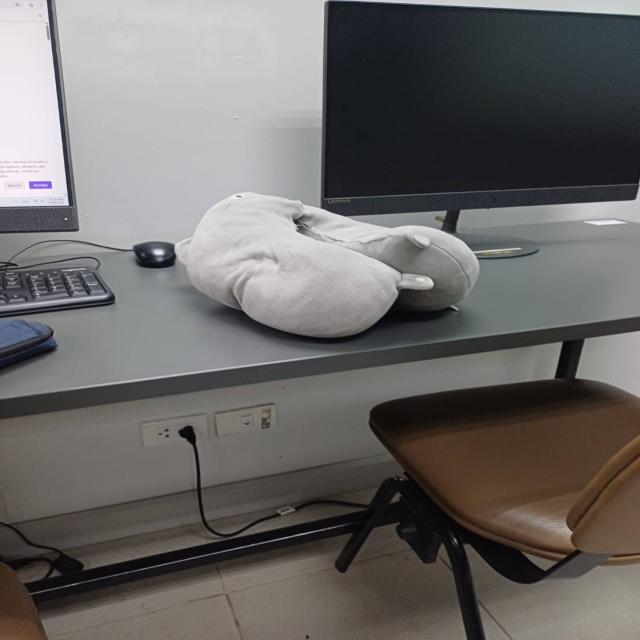pillow: (162, 188, 487, 352)
